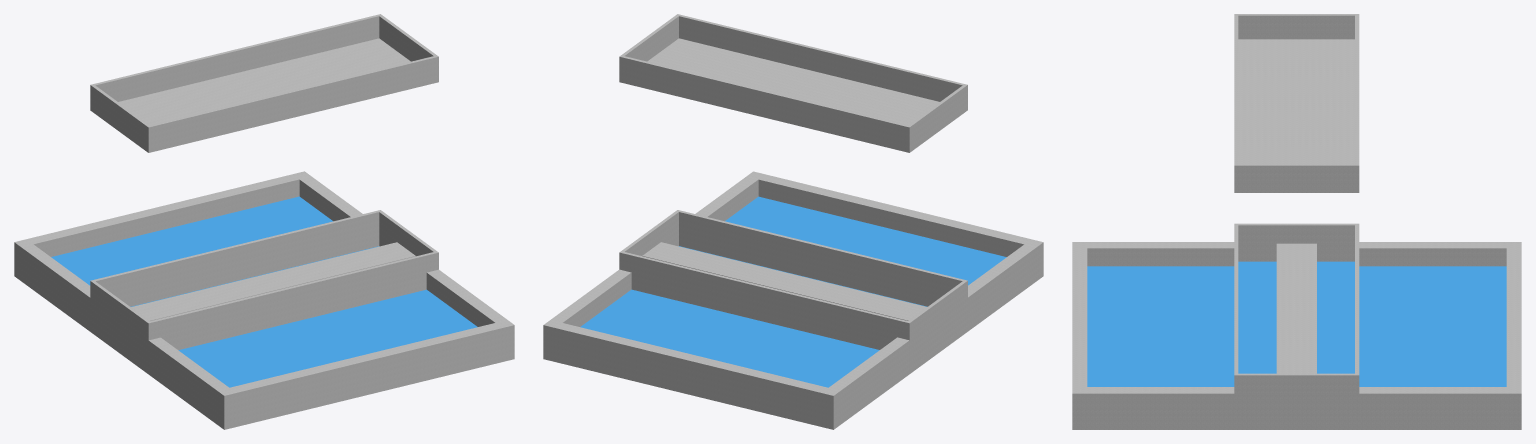
Rendered from B_Filter_expansion.glb.
3 views of the same model, side by side, from view 1: azimuth 30°, elevation 25°; view 2: azimuth 150°, elevation 25°; view 3: azimuth 270°, elevation 25° (orthographic). The views are drawn at different scales.
Visible parts, largest first — view 1: Floor1, Floor2; view 2: Floor1, Floor2; view 3: Floor1, Floor2.
Part boxes in pixels (x1,y1,x2,y2): Floor1: (14,171,514,429); Floor2: (90,14,438,152); Floor1: (543,171,1043,429); Floor2: (619,14,967,152); Floor1: (1072,223,1521,429); Floor2: (1234,14,1359,192).
Bounding box in the file's own units: 35.68 × 29 × 44.71.
2 materials, 2 textured.
